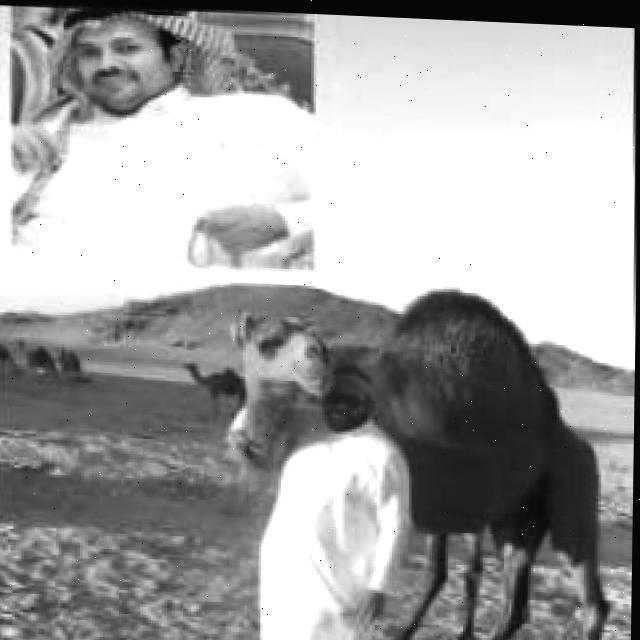Camel: (220, 277, 615, 640)
